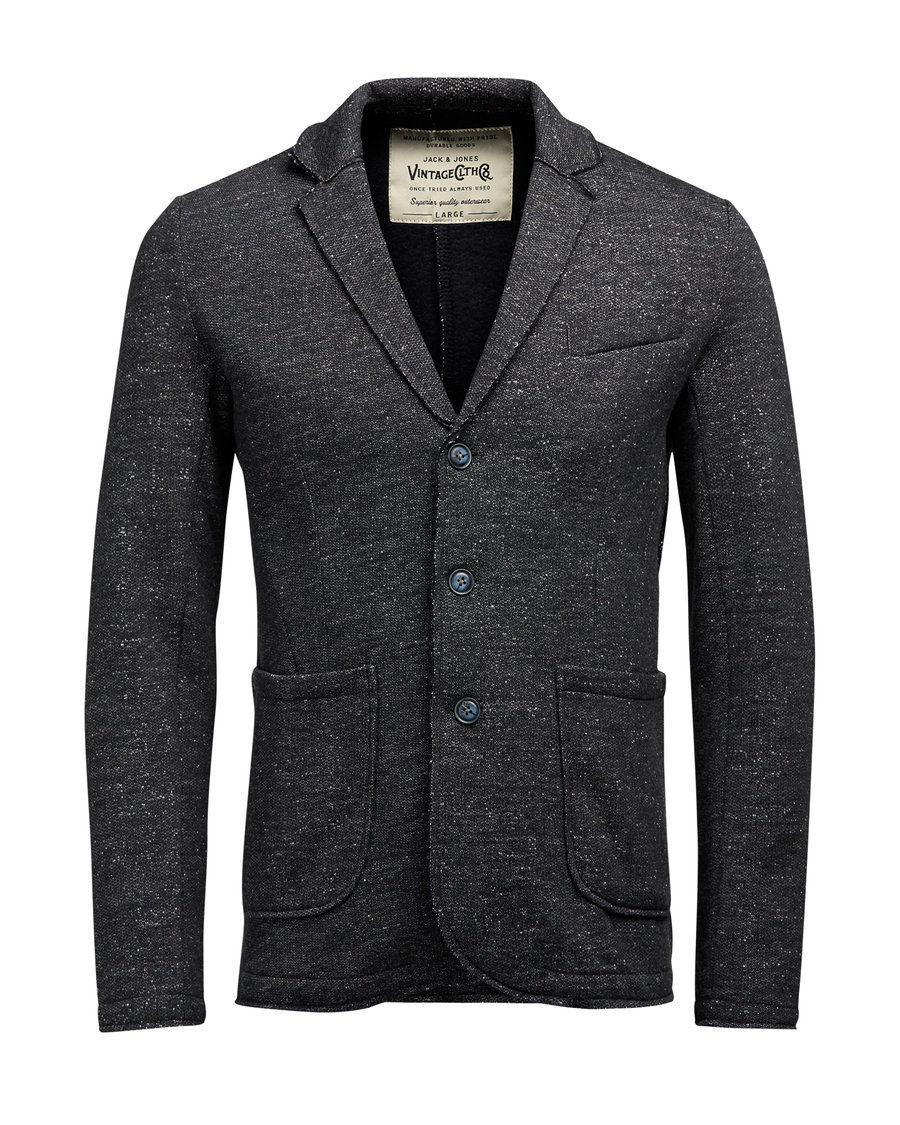teeshirt: (79, 81, 827, 1079)
